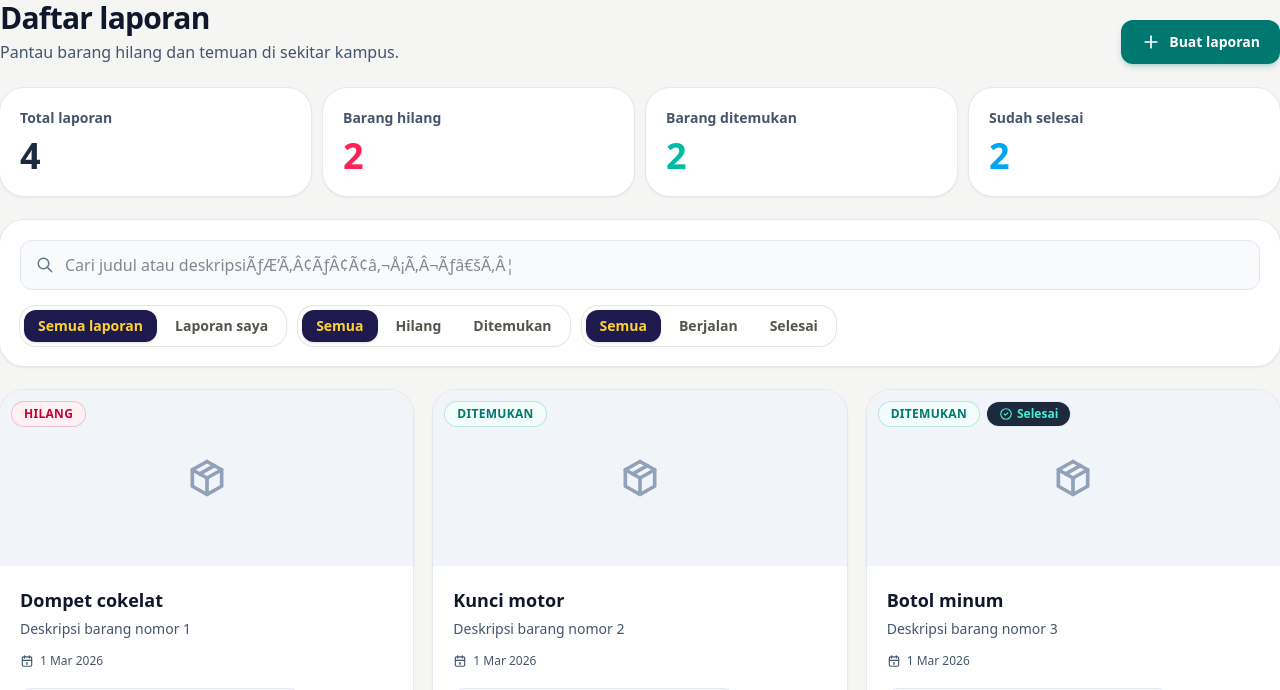
Test case: HomePage › modal tambah laporan dapat ditutup
This screenshot has width=1280, height=690.
Expected: the heading "Dompet cokelat" is shown, 20,588 -> 163,612
Click the button "Buat laporan": coordinates (1201, 42) 1121,20 -> 1279,64
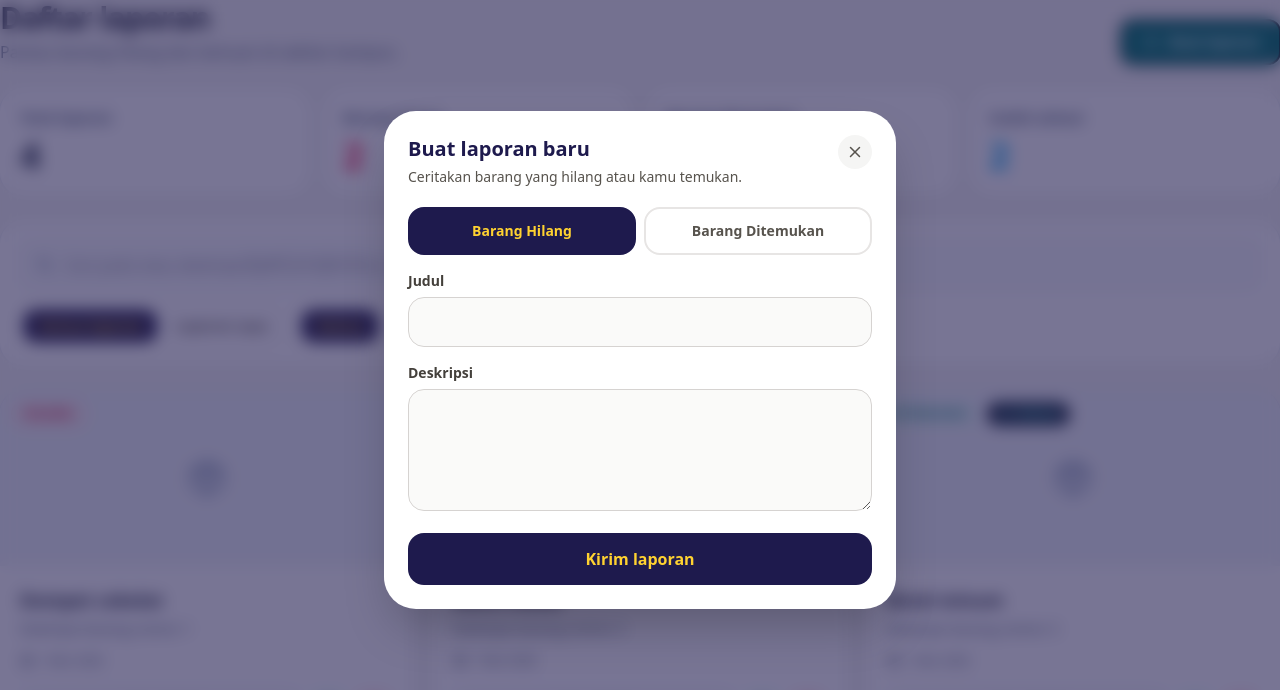
Click the button named "Tutup": coordinates (855, 152) 838,135 -> 872,169
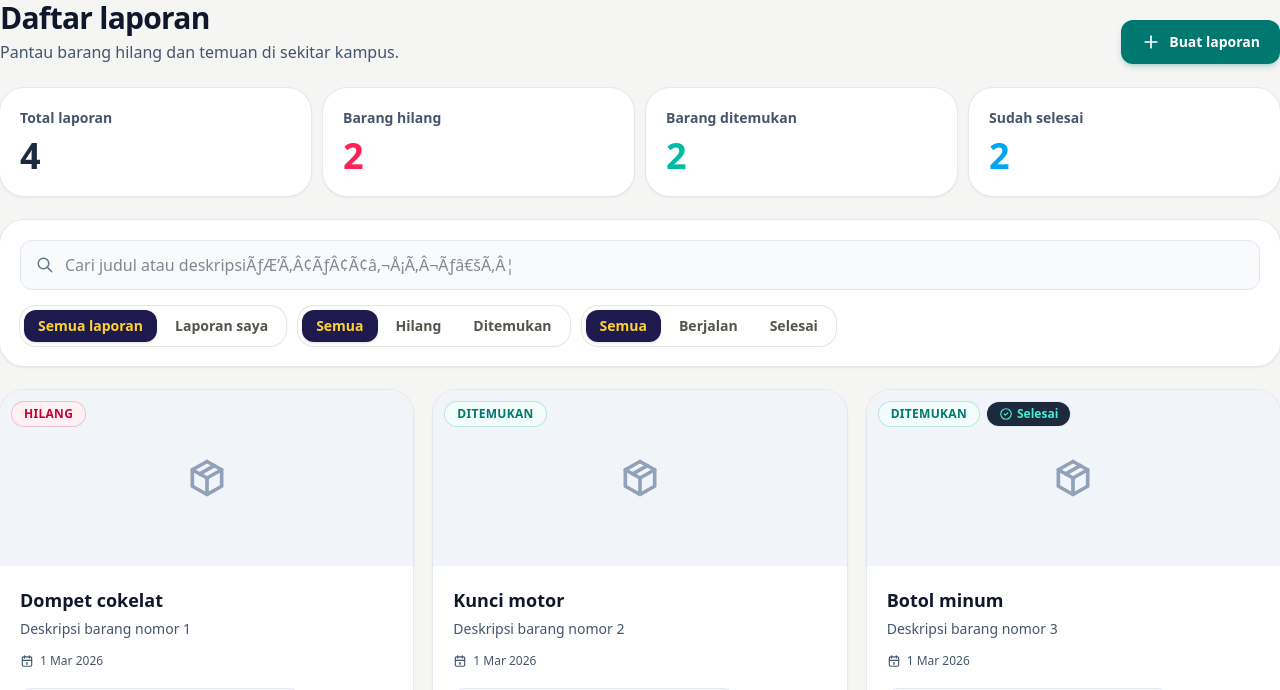
Now the dialog is gone
